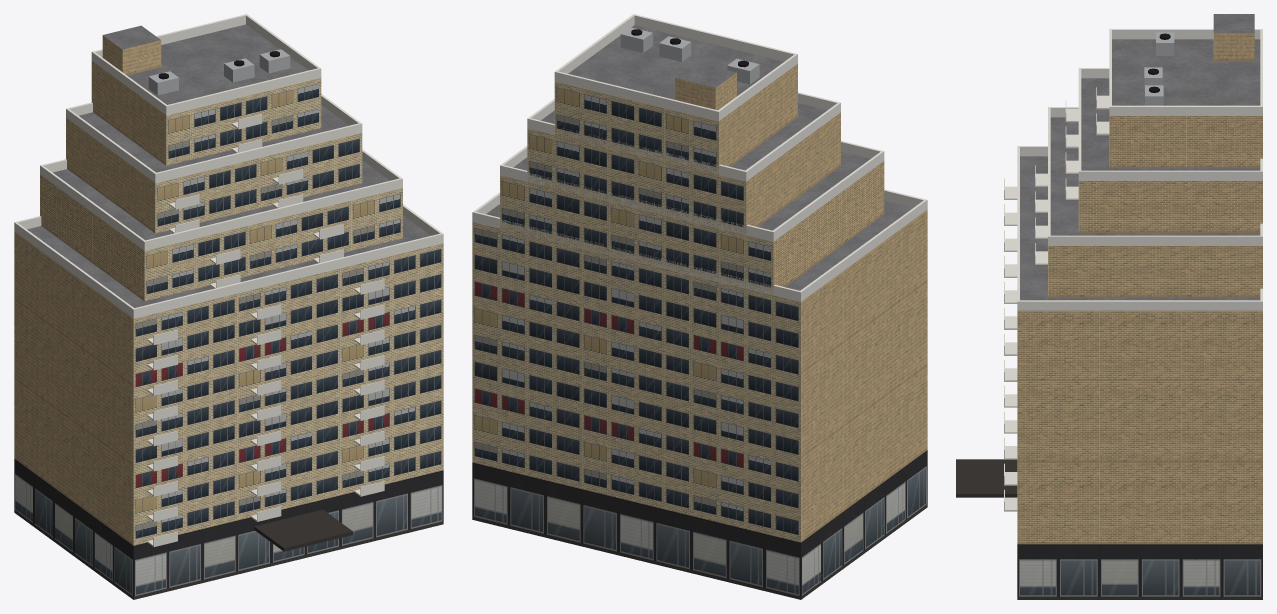
The model's file is 022_postwar_tan_setback.glb.
The picture shows the model from 3 angles, left to right: view 1: azimuth 30°, elevation 25°; view 2: azimuth 150°, elevation 25°; view 3: azimuth 270°, elevation 25°; orthographic projection. The views are drawn at different scales.
Parts seen in each view (by area): view 1: 022_postwar_tan_setback; view 2: 022_postwar_tan_setback; view 3: 022_postwar_tan_setback.
Part boxes in pixels (left/top/right/bottom): 022_postwar_tan_setback: left=14, top=14, right=443, bottom=599; 022_postwar_tan_setback: left=472, top=14, right=927, bottom=599; 022_postwar_tan_setback: left=956, top=14, right=1262, bottom=599.
Size of the model in its own units: 36 by 51 by 30.
Materials: 8 (4 with a texture image).
